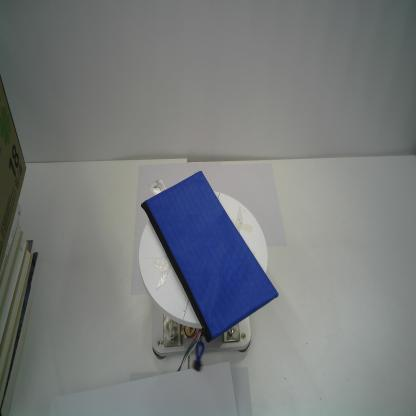Stationery: (140, 169, 280, 373)
